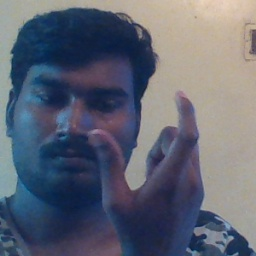U: (90, 81, 211, 241)
